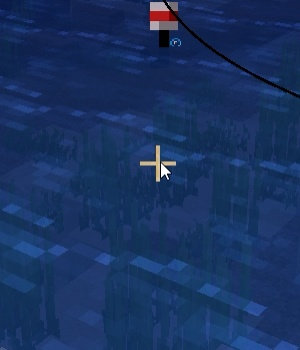up: (140, 1, 190, 58)
